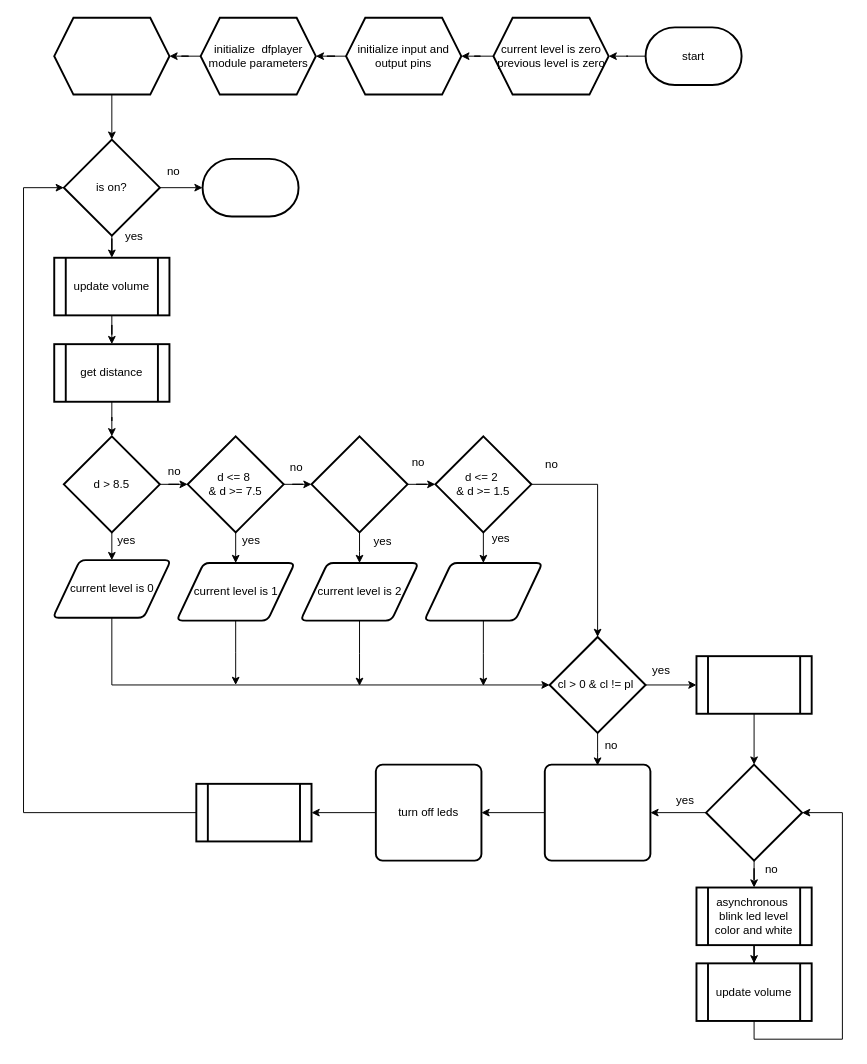
Some shapes in this 867 by 1064 pixel diagram are drawn without their labels. Here are the shapes that lost their labels. From the top down, the centre of each, then its label:
At point 111,55: "initialize serial communication".
At point 250,187: "end".
At point 359,484: "d <= 5 & d >= 4.5".
At point 483,591: "current level is 3".
At point 753,684: "play audio for current level".
At point 253,812: "delay 300 ms".
At point 597,812: "set previous level to current level".
At point 754,812: "is audio done playing?".
